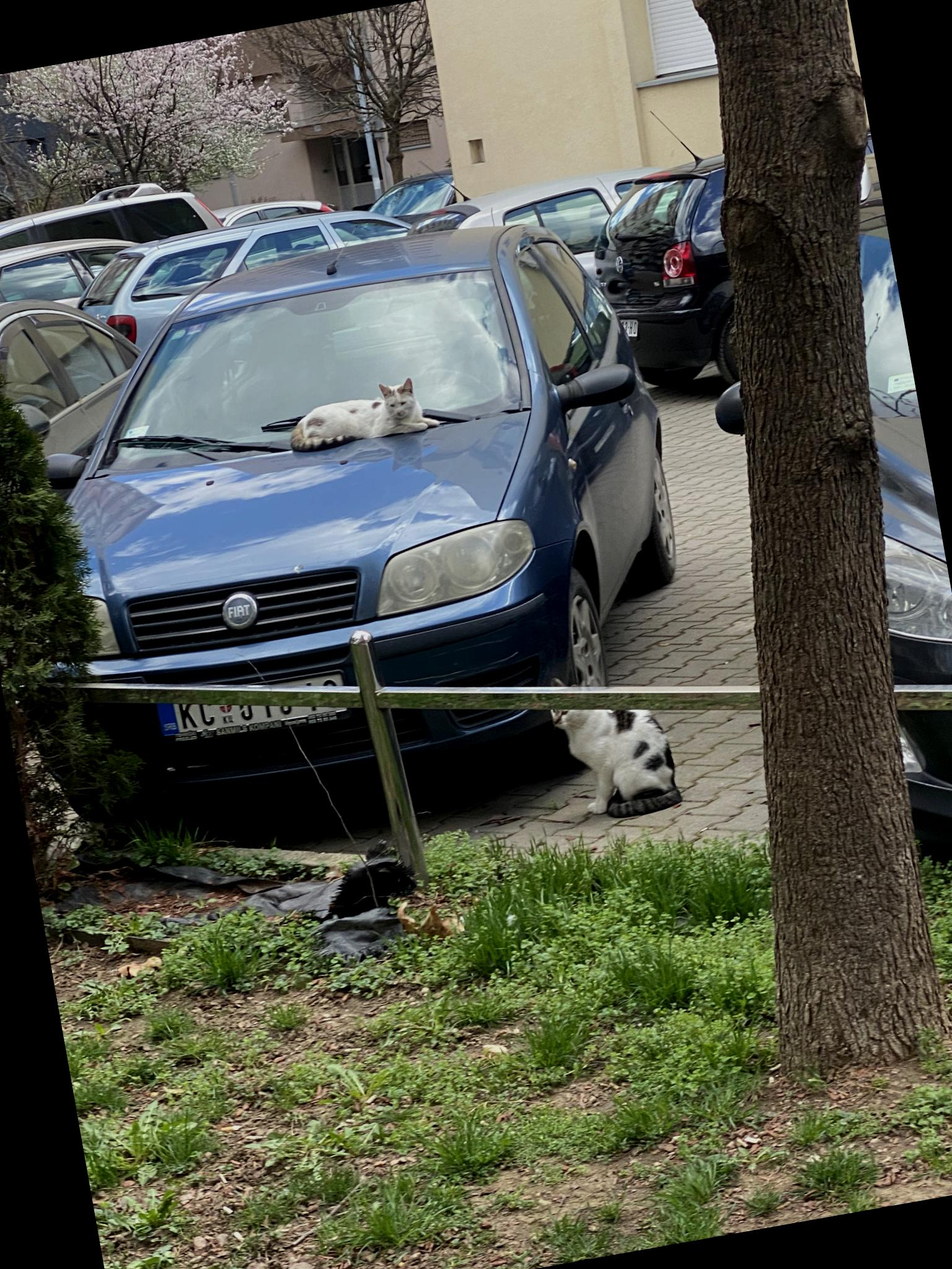macka: (548, 685, 685, 828), (286, 373, 446, 454)
